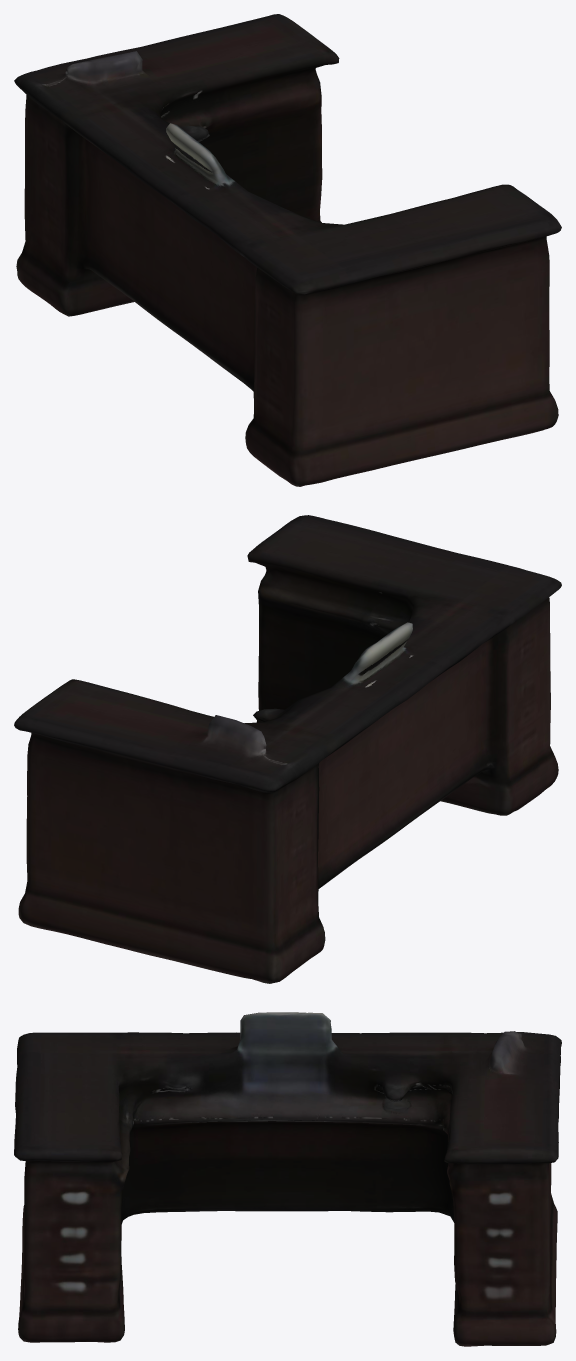
The model's file is professor_desk.fbx.
The picture shows the model from 3 angles, top to bottom: view 1: azimuth 30°, elevation 25°; view 2: azimuth 150°, elevation 25°; view 3: azimuth 270°, elevation 25°; orthographic projection. The views are drawn at different scales.
Visible parts, largest first — view 1: mesh; view 2: mesh; view 3: mesh.
Part boxes in pixels (x1,y1,x2,y2): mesh: (14, 14, 561, 486); mesh: (14, 515, 561, 983); mesh: (14, 1012, 561, 1346).
Size of the model in its own units: 54.32 by 46.16 by 99.49.
